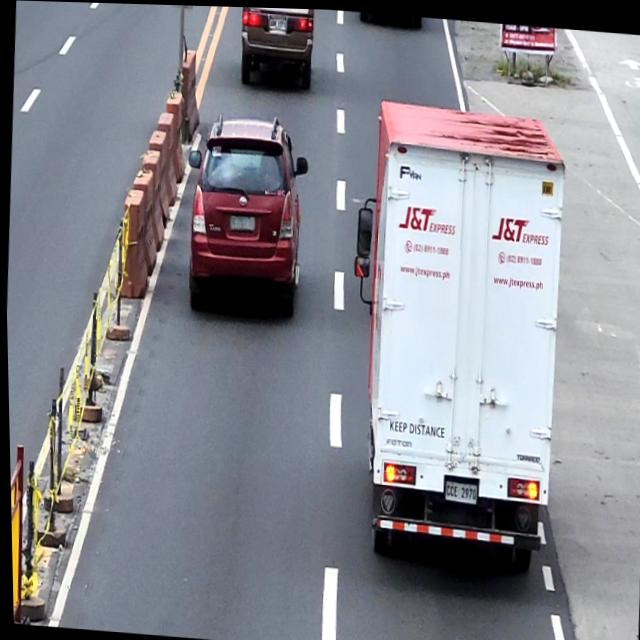Car: (179, 107, 312, 317), (237, 6, 314, 88)
License-Plate: (440, 472, 478, 502), (228, 212, 256, 230), (268, 14, 289, 31)
Truck: (335, 94, 575, 570)
